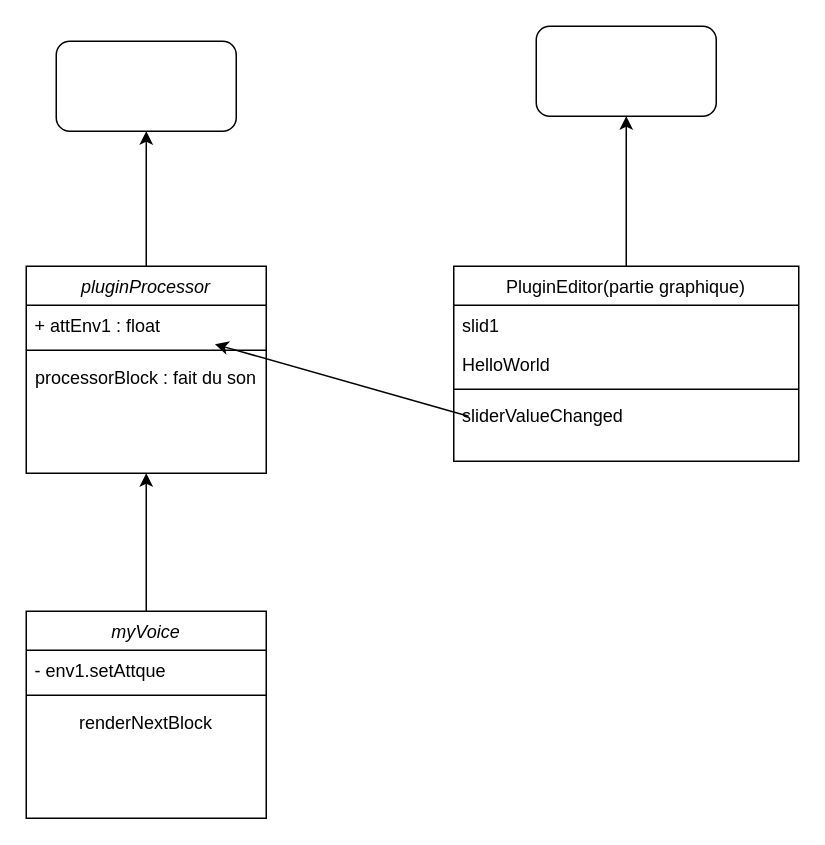
This 825x845 diagram has some shape labels left out. The box of each missing label's shape, as (x1, y1, x2, y2) in pixels:
DAC(moniteur audio): (55, 40, 236, 131)
DV(monitor video: (535, 25, 716, 116)
